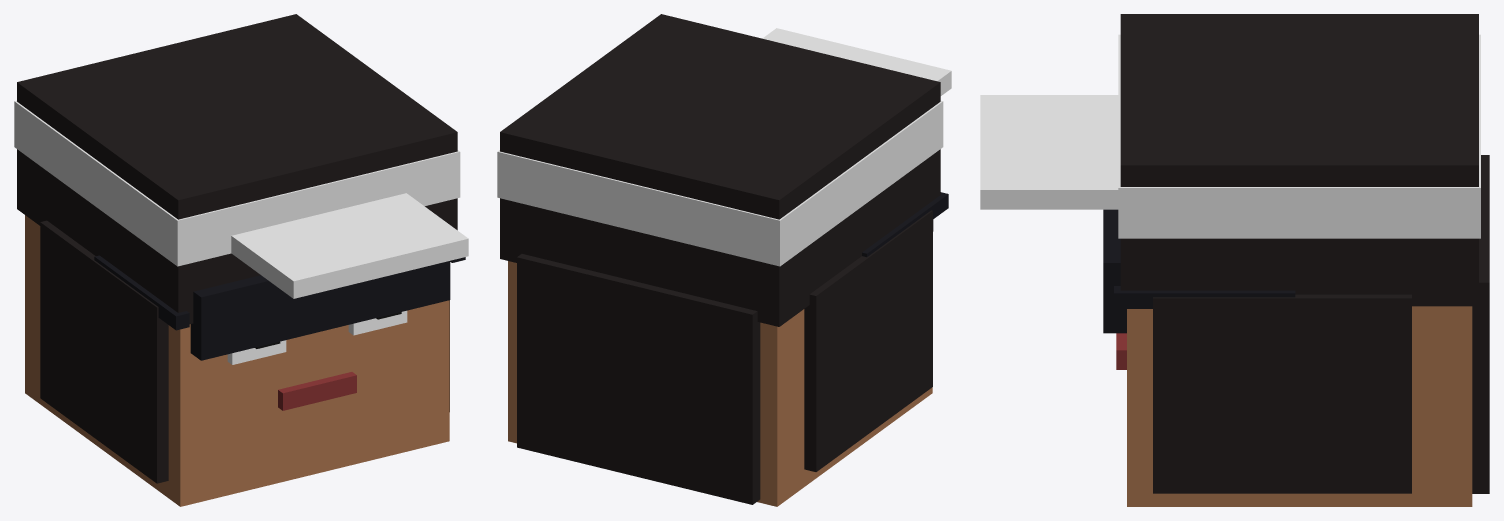
File: head_runa.fbx
The picture shows the model from 3 angles, left to right: view 1: azimuth 30°, elevation 25°; view 2: azimuth 150°, elevation 25°; view 3: azimuth 270°, elevation 25°; orthographic projection. The views are drawn at different scales.
Visible parts, largest first — view 1: head_runa; view 2: head_runa; view 3: head_runa.
Boxes of the visible parts, <box> form: head_runa: <box>14,14,468,506</box>; head_runa: <box>497,14,951,506</box>; head_runa: <box>980,14,1489,506</box>.
Size of the model in its own units: 0.4937 by 0.4994 by 0.6696.
